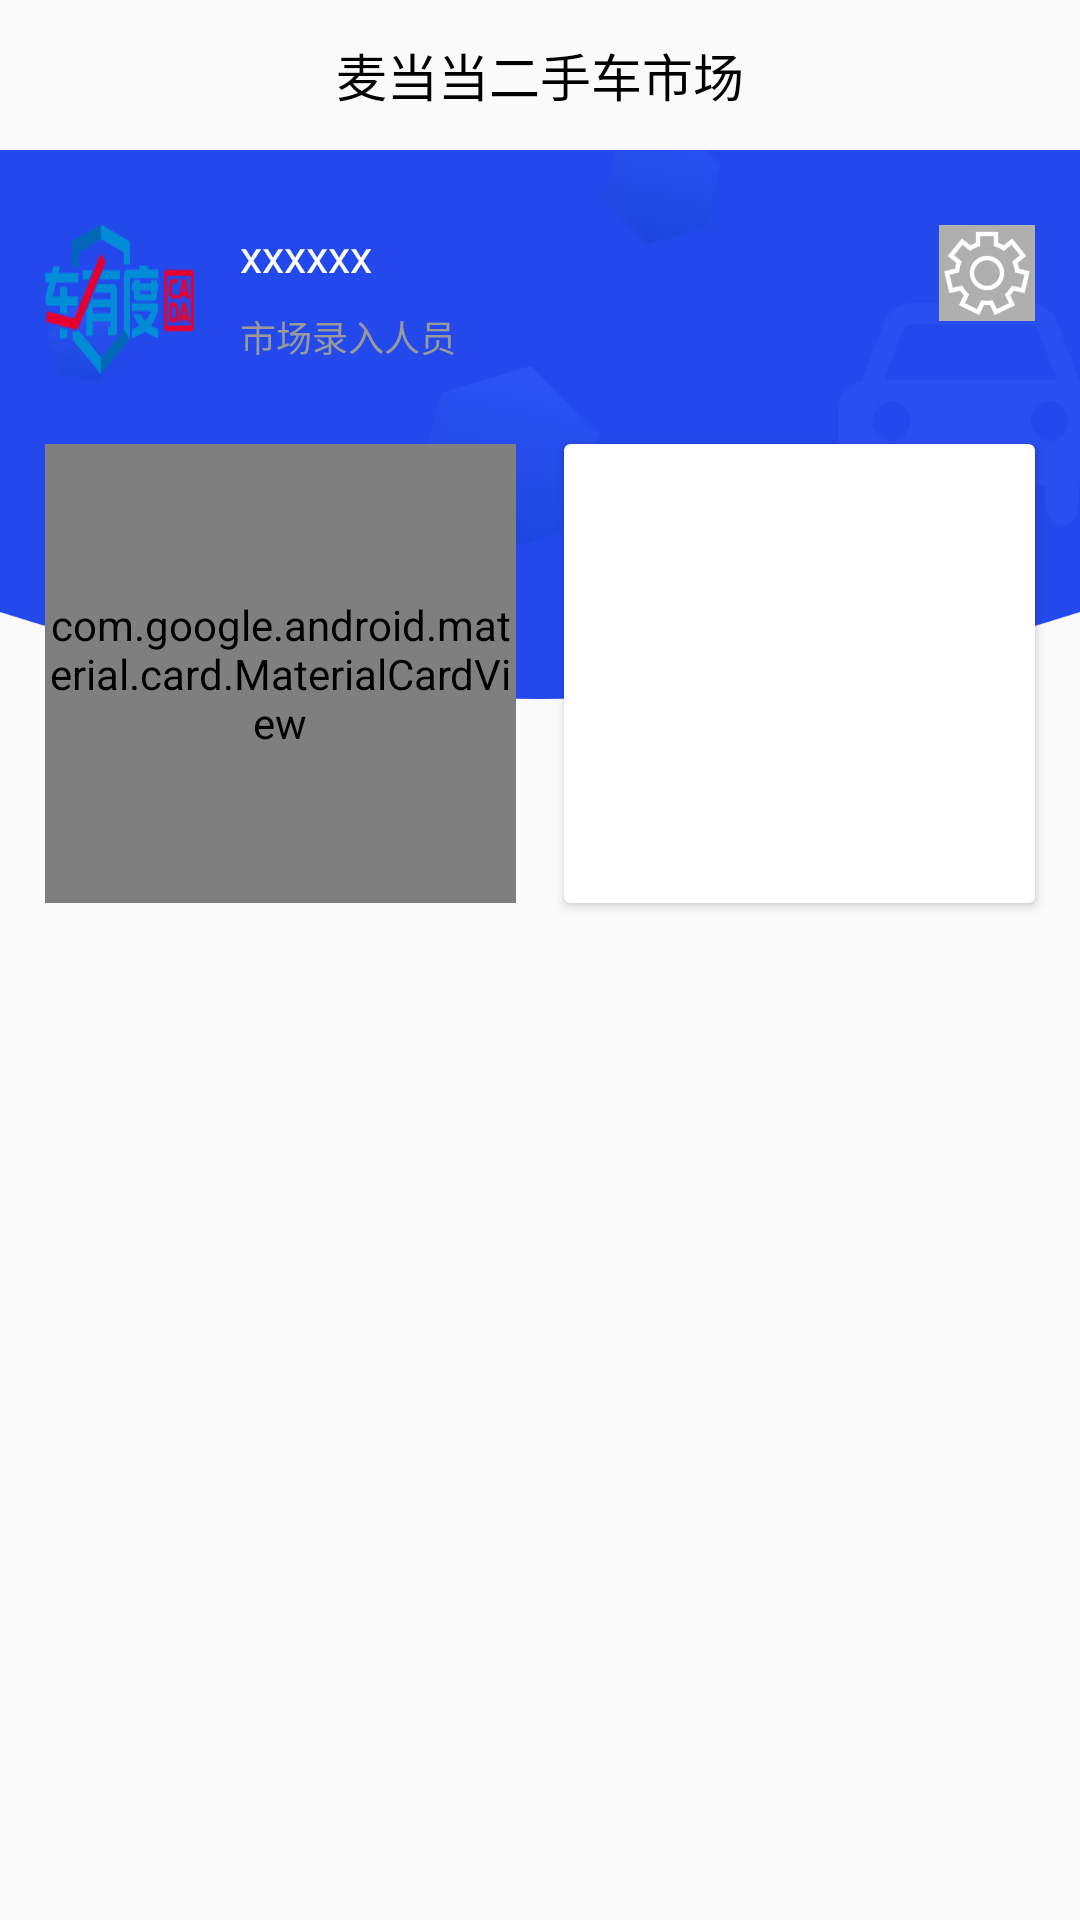

Icon click points for this 1080 x 1920 phone screenshot, format (x=x, y=y):
setting: (x=987, y=273)
